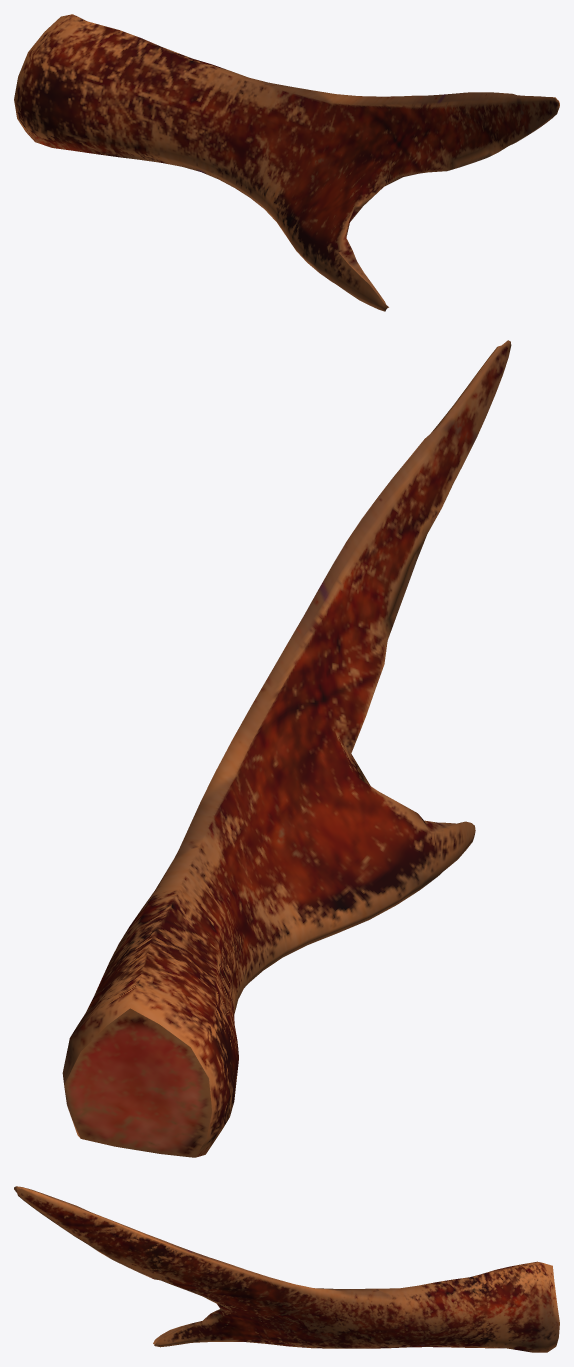
The model's file is SM_Fishtail.fbx.
3 renders of one model, top to bottom at view 1: azimuth 30°, elevation 25°; view 2: azimuth 150°, elevation 25°; view 3: azimuth 270°, elevation 25°, orthographic. The views are drawn at different scales.
Visible parts, largest first — view 1: SM_Fishtail_LOD0; view 2: SM_Fishtail_LOD0; view 3: SM_Fishtail_LOD0.
Part boxes in pixels (left/top/right/bottom): SM_Fishtail_LOD0: left=14, top=14, right=559, bottom=311; SM_Fishtail_LOD0: left=62, top=340, right=511, bottom=1157; SM_Fishtail_LOD0: left=14, top=1186, right=559, bottom=1352.
Bounding box in the file's own units: 12.49 × 46.98 × 18.39.
1 material, 1 textured.
